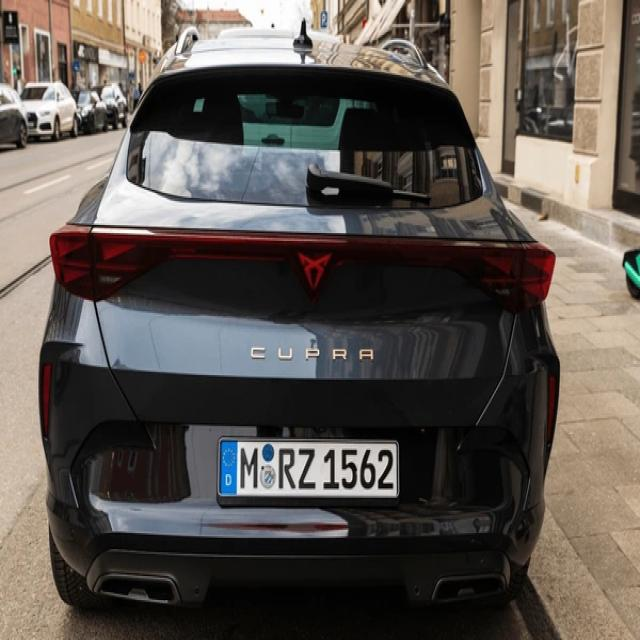cupra: (296, 244, 333, 306)
